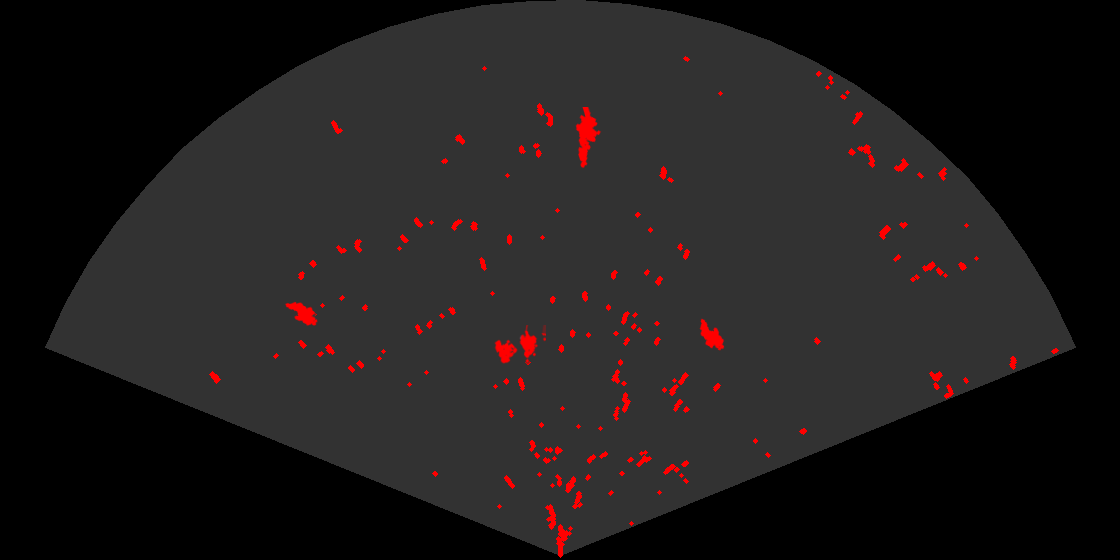AUV: (698, 317, 726, 352), (283, 300, 319, 327)
cage: (493, 325, 546, 365)
frogman: (574, 107, 603, 169)
